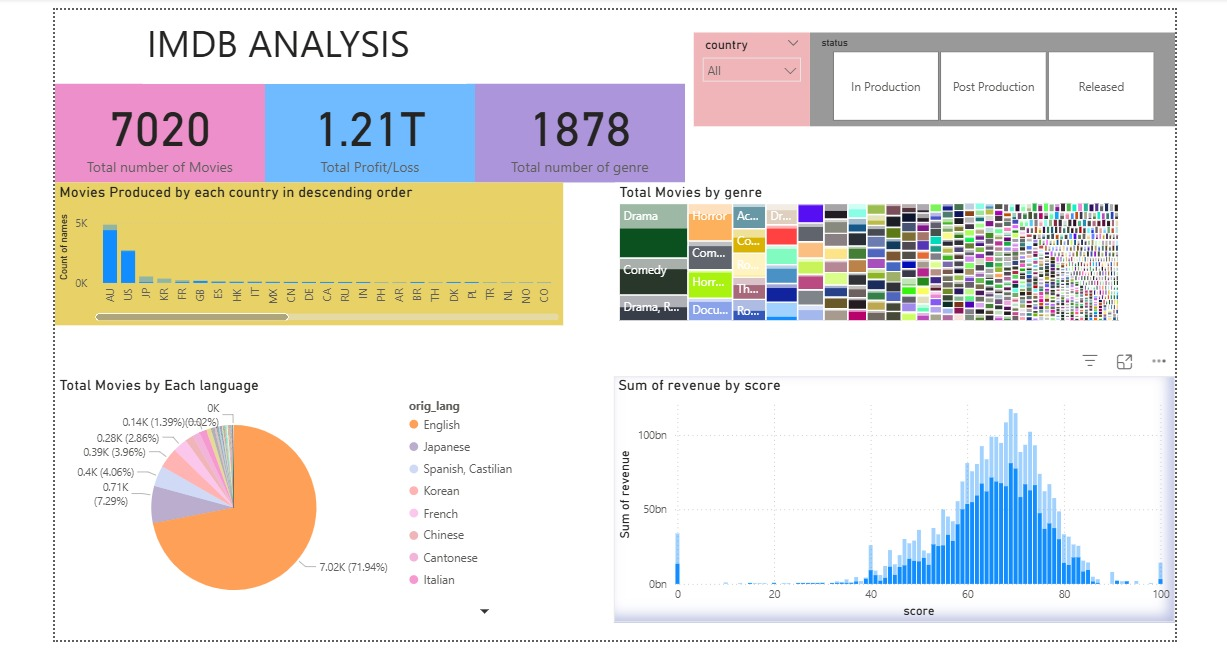

Layout of this report page (visuals, bound fields, positions):
{"tool":"powerbi","page":{"name":"Page 1","canvas":[1280,720],"ordinal":0},"visuals":[{"type":"card","fields":{"Values":["Count(IMDB.names)"]},"box":[0,84.3,240,112.9],"z":0},{"type":"card","fields":{"Values":["Sum(IMDB.Sum of Profit/Loss)"]},"box":[240,84.3,240,112.9],"z":1000},{"type":"card","fields":{"Values":["Count(IMDB.genre)"]},"box":[492.9,0,240,112.9],"z":2000},{"type":"clusteredColumnChart","title":"Movies  by country","fields":{"Category":["IMDB.country"],"Y":["CountNonNull(IMDB.names)"]},"box":[0,196.5,580.9,163],"z":3000},{"type":"treemap","title":"Total Movies by genre","fields":{"Group":["IMDB.genre"],"Values":["Count(IMDB.names)"]},"box":[639.4,196.5,580.9,163],"z":4000},{"type":"pieChart","title":"Total Movies by language","fields":{"Category":["IMDB.orig_lang"],"Y":["Count(IMDB.names)"]},"box":[0,418.5,581,163],"z":5000},{"type":"clusteredColumnChart","fields":{"Y":["Sum(IMDB.revenue)"],"Category":["IMDB.score"]},"box":[639,419,581,163],"z":6000},{"type":"slicer","fields":{"Values":["IMDB.country"]},"box":[761.4,2.9,115.7,67.1],"z":7000},{"type":"slicer","fields":{"Values":["IMDB.status"]},"box":[877.1,1.4,402.9,67.1],"z":8000},{"type":"textbox","box":[100,2.9,370,81.4],"z":9000}]}

Visuals, with their boxes on the page's 1280x720 design canvas (x1, y1, x2, y2). These are canvas units, not pixel positions in the 1227x659 screenshot, which may show the page scaled, cropped or inside an application window:
card - Count(IMDB.names): rect(0, 84, 240, 197)
card - Sum(IMDB.Sum of Profit/Loss): rect(240, 84, 480, 197)
card - Count(IMDB.genre): rect(493, 0, 733, 113)
"Movies  by country" clusteredColumnChart: rect(0, 196, 581, 360)
"Total Movies by genre" treemap: rect(639, 196, 1220, 360)
"Total Movies by language" pieChart: rect(0, 418, 581, 582)
clusteredColumnChart - Sum(IMDB.revenue) x IMDB.score: rect(639, 419, 1220, 582)
slicer - IMDB.country: rect(761, 3, 877, 70)
slicer - IMDB.status: rect(877, 1, 1280, 68)
textbox: rect(100, 3, 470, 84)
